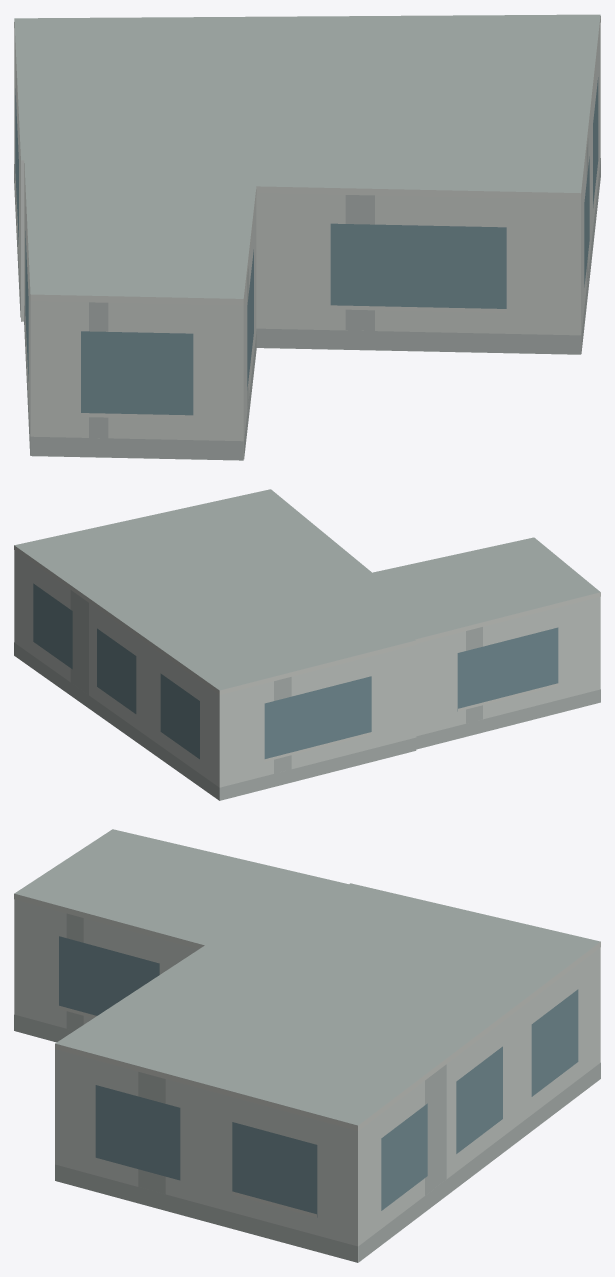
Rendered from residential-d38ebf18-349e-4fa9-a547-f4518c11988a.glb.
3 renders of one model, top to bottom at view 1: azimuth 30°, elevation 25°; view 2: azimuth 150°, elevation 25°; view 3: azimuth 270°, elevation 25°, orthographic. The views are drawn at different scales.
Visible parts, largest first — view 1: residential-d38ebf18-349e-4fa9-a547-f4518c11988a.tmp; view 2: residential-d38ebf18-349e-4fa9-a547-f4518c11988a.tmp; view 3: residential-d38ebf18-349e-4fa9-a547-f4518c11988a.tmp.
Boxes of the visible parts, <box> form: residential-d38ebf18-349e-4fa9-a547-f4518c11988a.tmp: <box>14,14,600,460</box>; residential-d38ebf18-349e-4fa9-a547-f4518c11988a.tmp: <box>14,489,600,800</box>; residential-d38ebf18-349e-4fa9-a547-f4518c11988a.tmp: <box>14,829,600,1262</box>.
Bounding box in the file's own units: 14.14 × 3.05 × 11.82.
